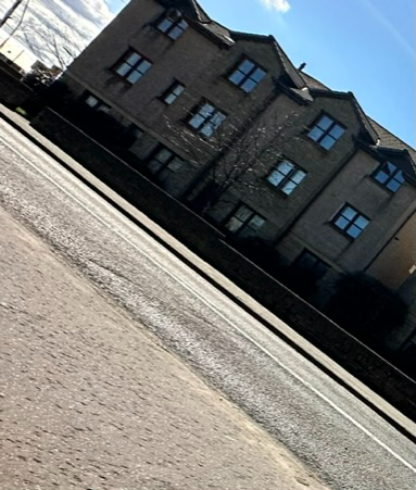tree: (163, 79, 310, 210)
